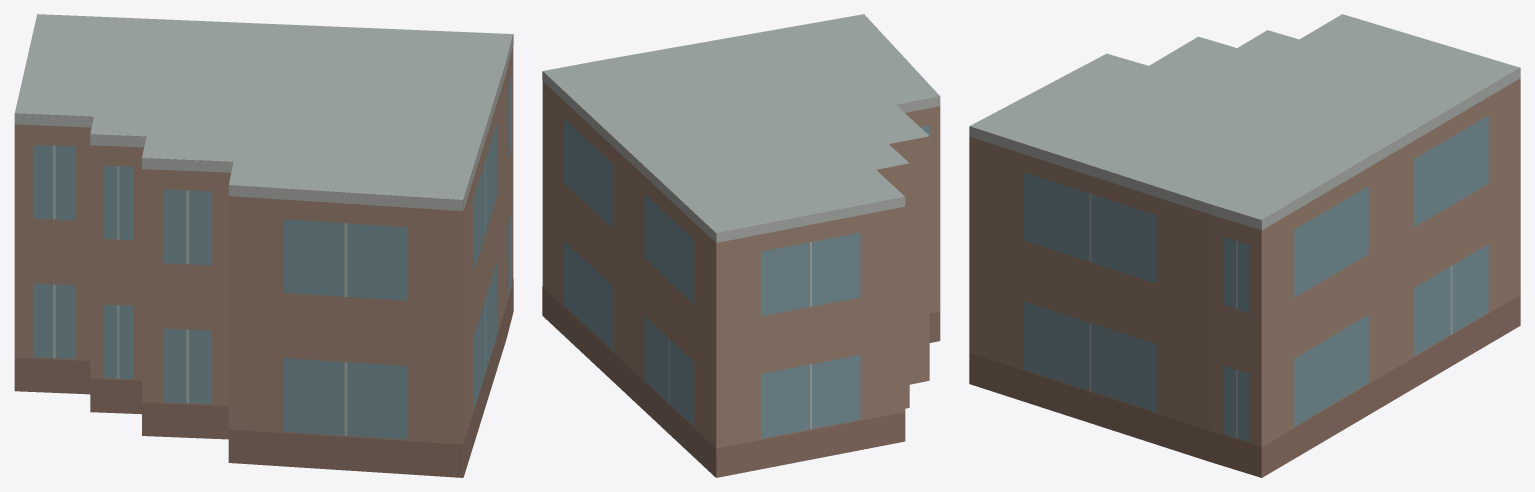
Rendered from survey-upis-32823748.glb.
The picture shows the model from 3 angles, left to right: view 1: azimuth 30°, elevation 25°; view 2: azimuth 150°, elevation 25°; view 3: azimuth 270°, elevation 25°; orthographic projection. The views are drawn at different scales.
Visible parts, largest first — view 1: survey-upis-32823748.tmp; view 2: survey-upis-32823748.tmp; view 3: survey-upis-32823748.tmp.
Boxes of the visible parts, <box> form: survey-upis-32823748.tmp: <box>14,14,513,477</box>; survey-upis-32823748.tmp: <box>542,14,940,477</box>; survey-upis-32823748.tmp: <box>969,14,1520,477</box>.
Bounding box in the file's own units: 10.47 × 6.1 × 11.83.
